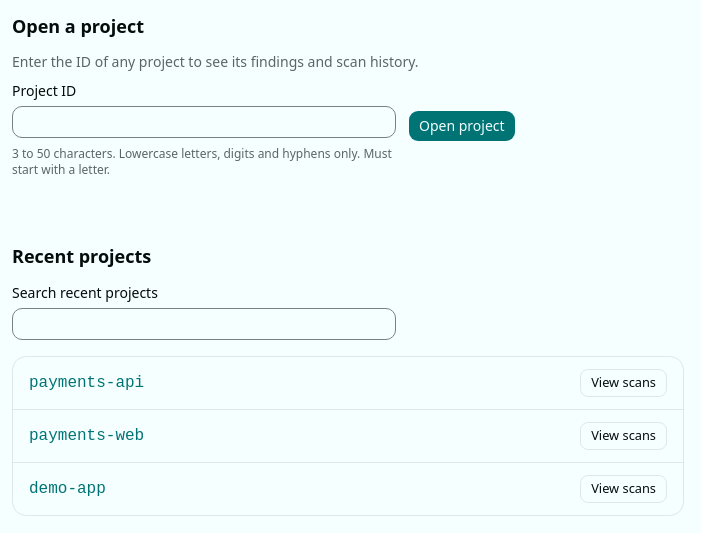
Scenario: ProjectsOverview: recent projects › searches the list as you type, and says how many are shown
This screenshot has width=701, height=533.
Type "PAY" into the search field labelled "Search recent projects" at coordinates (204, 324), box x1=12 y1=308 x2=396 y2=340
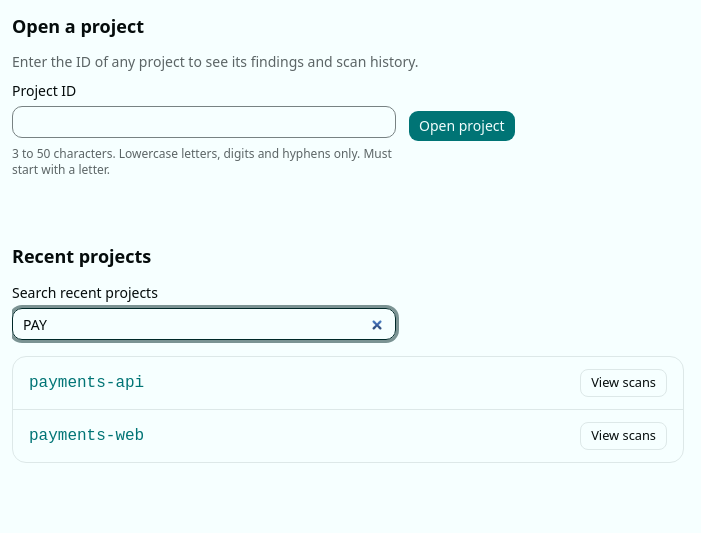
expect the number of list items is 2: met, box x1=13 y1=357 x2=683 y2=410; x1=29 y1=422 x2=667 y2=450
expect the link "demo-app" is gone: met
